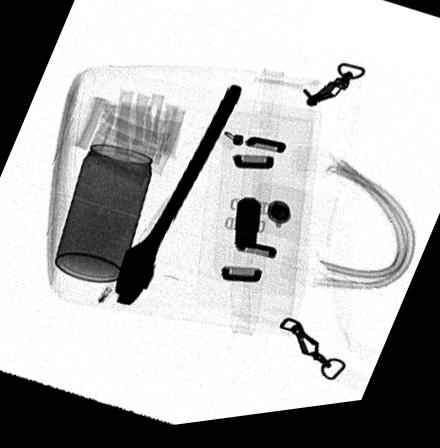Wrench: (114, 86, 245, 311)
